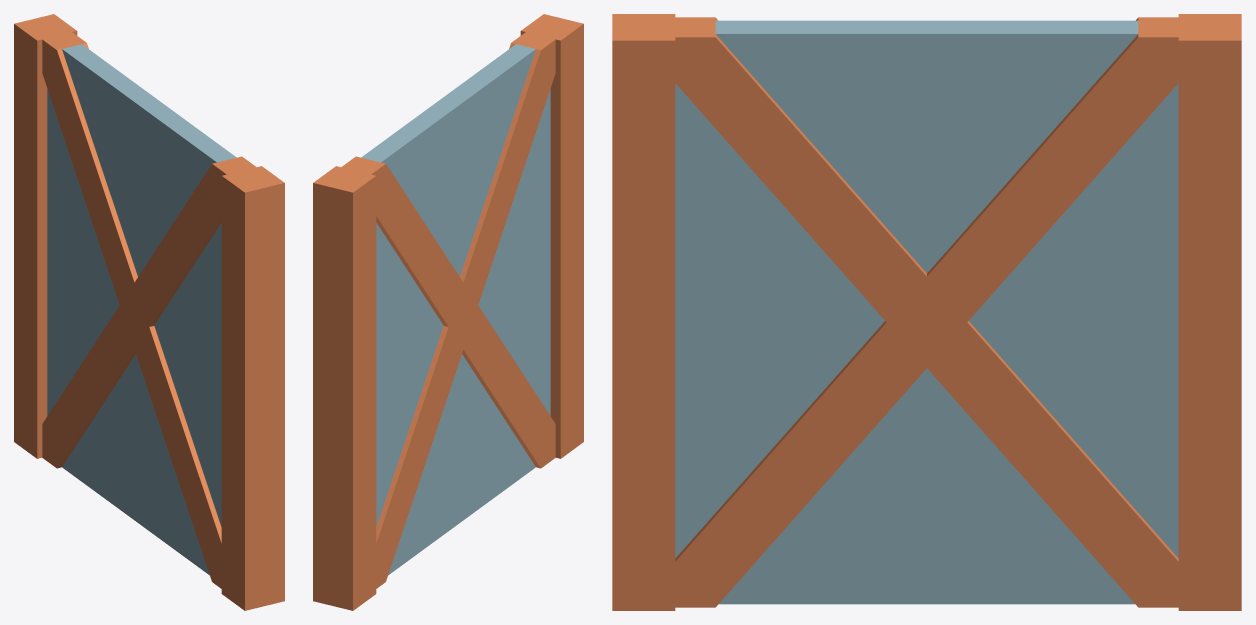
The model's file is wallDetailCross.fbx.
3 views of the same model, side by side, from view 1: azimuth 30°, elevation 25°; view 2: azimuth 150°, elevation 25°; view 3: azimuth 270°, elevation 25° (orthographic). The views are drawn at different scales.
Parts seen in each view (by area): view 1: wallDetailCross; view 2: wallDetailCross; view 3: wallDetailCross.
Part boxes in pixels (x1,y1,x2,y2): wallDetailCross: (14,14,284,610); wallDetailCross: (313,14,583,610); wallDetailCross: (612,14,1241,610).
Size of the model in its own units: 1 by 10 by 10.
